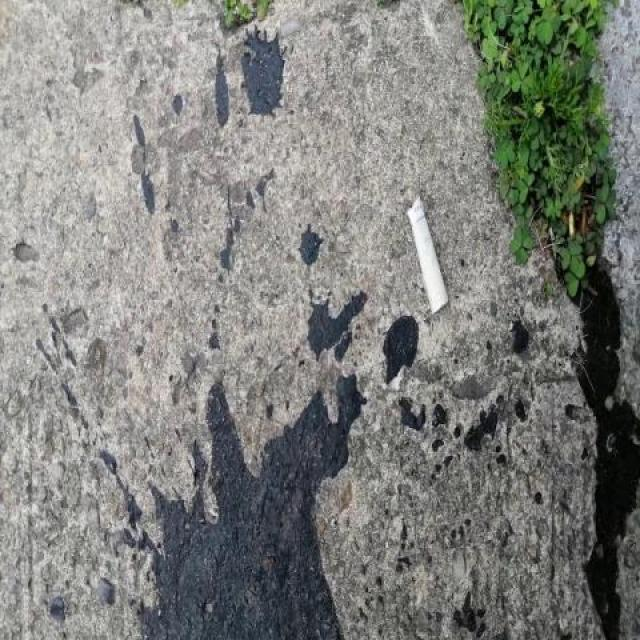non-organic waste: (400, 189, 452, 322)
